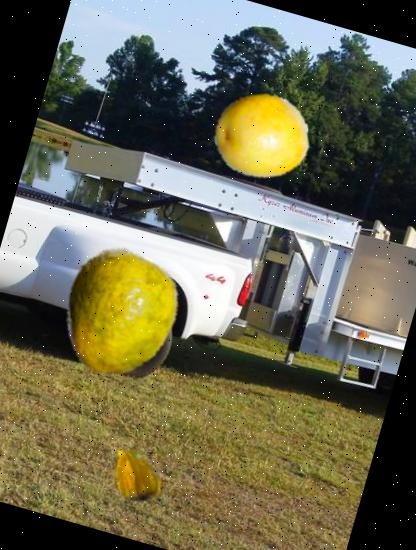Guava: (37, 234, 197, 394)
Maracuja: (202, 76, 320, 194)
Physalis: (102, 440, 170, 508)
